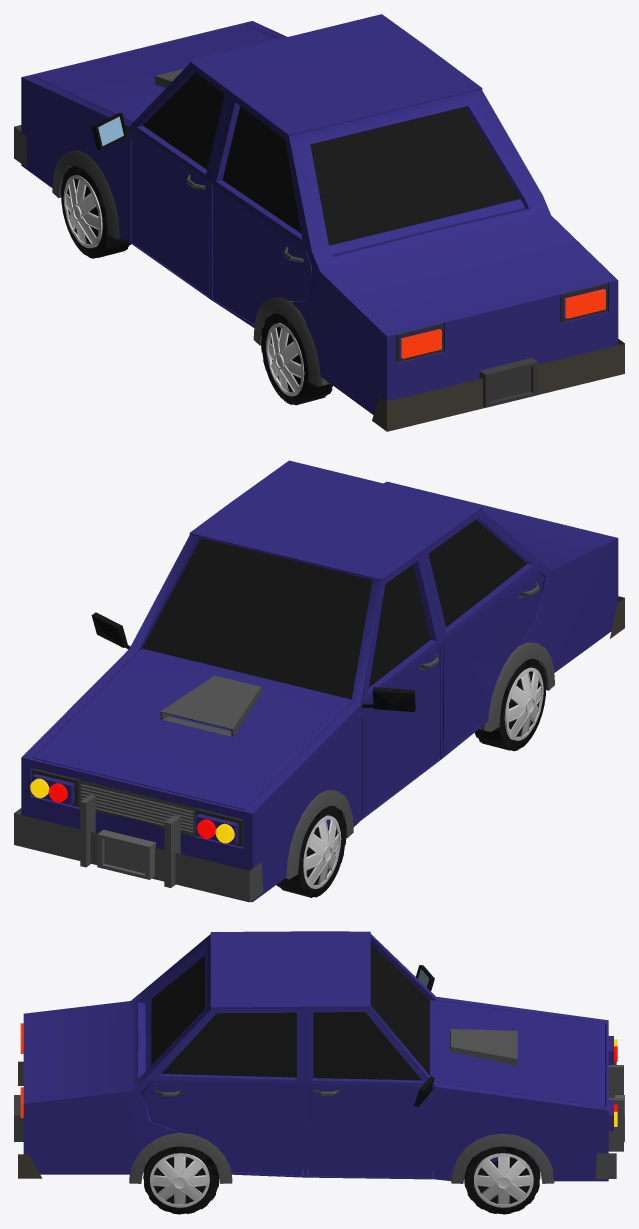
File: Car_Basic_7.glb
3 renders of one model, top to bottom at view 1: azimuth 30°, elevation 25°; view 2: azimuth 150°, elevation 25°; view 3: azimuth 270°, elevation 25°, orthographic. The views are drawn at different scales.
Parts seen in each view (by area): view 1: 2.024, Cube.4962, Cylinder.4272, Cylinder.4268, Cylinder.4273, Cube.4967, Cube.4969; view 2: 2.024, Cube.4963, Cylinder.4272, Cube.4970, Cylinder.4268, Cylinder.4273, Cube.4966, Cube.4969, Cube.4964, Cube.4965, Cylinder.4270, Cylinder.4271; view 3: 2.024, Cylinder.4272, Cylinder.4268, Cylinder.4273, Cube.4970, Cube.4965, Cube.4962, Cube.4969, Cube.4963, Cube.4964, Cube.4967.
Part boxes in pixels (left/top/right/bottom): 2.024: left=21, top=14, right=618, bottom=414; Cube.4962: left=372, top=339, right=624, bottom=431; Cylinder.4272: left=63, top=175, right=304, bottom=396; Cylinder.4268: left=61, top=166, right=332, bottom=405; Cylinder.4273: left=52, top=150, right=330, bottom=386; Cube.4967: left=479, top=358, right=537, bottom=407; Cube.4969: left=91, top=113, right=127, bottom=149; 2.024: left=21, top=460, right=618, bottom=902; Cube.4963: left=14, top=808, right=262, bottom=902; Cylinder.4272: left=303, top=667, right=543, bottom=888; Cube.4970: left=160, top=675, right=261, bottom=737; Cylinder.4268: left=276, top=658, right=546, bottom=897; Cylinder.4273: left=285, top=642, right=554, bottom=879; Cube.4966: left=97, top=829, right=155, bottom=879; Cube.4969: left=91, top=612, right=415, bottom=712; Cube.4964: left=164, top=815, right=181, bottom=887; Cube.4965: left=80, top=795, right=96, bottom=867; Cylinder.4270: left=30, top=778, right=234, bottom=843; Cylinder.4271: left=48, top=783, right=215, bottom=838; 2.024: left=20, top=931, right=613, bottom=1181; Cylinder.4272: left=150, top=1153, right=533, bottom=1207; Cylinder.4268: left=143, top=1146, right=540, bottom=1214; Cylinder.4273: left=129, top=1132, right=554, bottom=1183; Cube.4970: left=450, top=1029, right=517, bottom=1065; Cube.4965: left=608, top=1098, right=623, bottom=1151; Cube.4962: left=18, top=1061, right=42, bottom=1178; Cube.4969: left=414, top=965, right=434, bottom=1106; Cube.4963: left=595, top=1061, right=616, bottom=1178; Cube.4964: left=608, top=1065, right=623, bottom=1097; Cube.4967: left=14, top=1095, right=23, bottom=1141.
Size of the model in its own units: 2.27 by 1.68 by 4.66.
